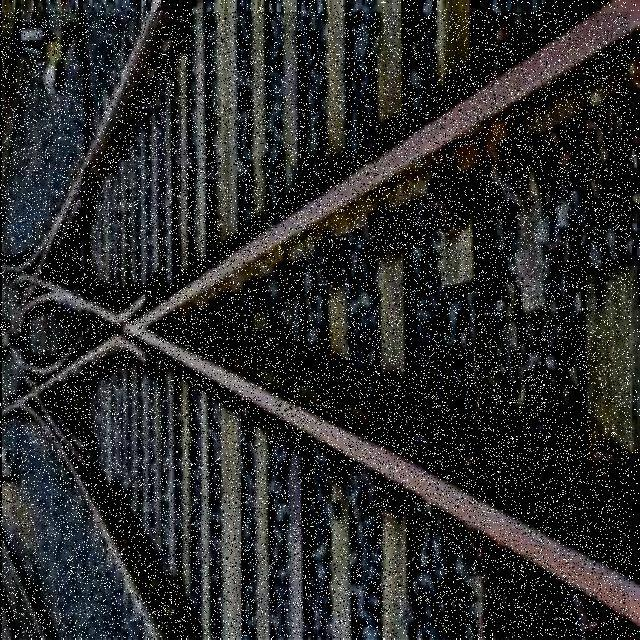rail: (1, 13, 631, 640)
